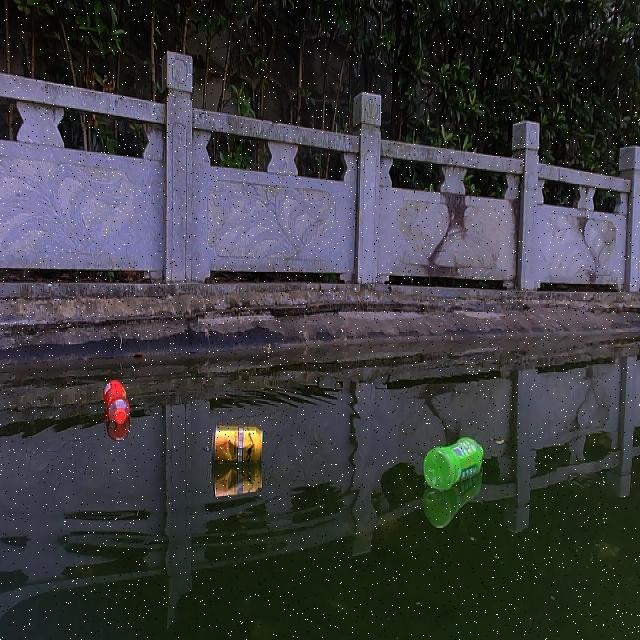Bottle: (423, 436, 485, 492), (103, 377, 130, 424)
Can: (209, 424, 268, 465)
